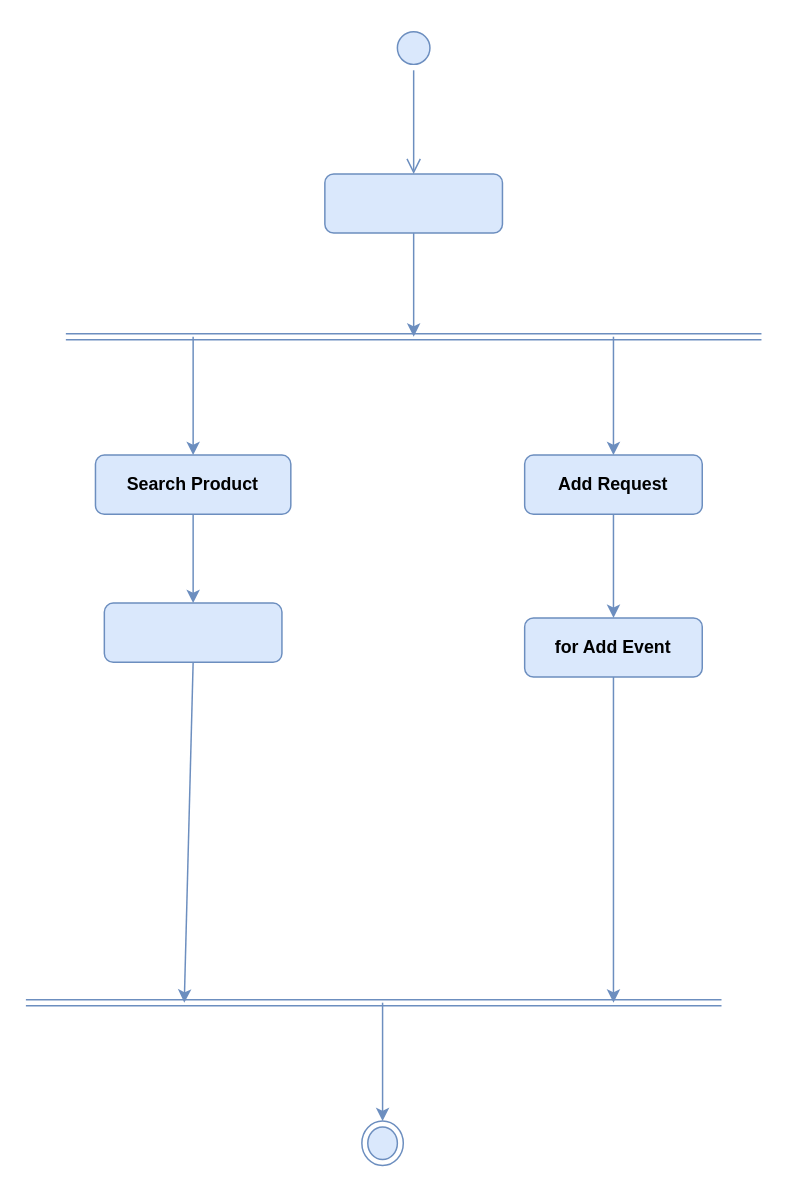
Some shapes in this 787 by 1191 pixel diagram are drawn without their labels. The centre of each missing label's shape, as x and y in pixels:
Add to Cart: the point at 192,632
Home Page: the point at 412,202
